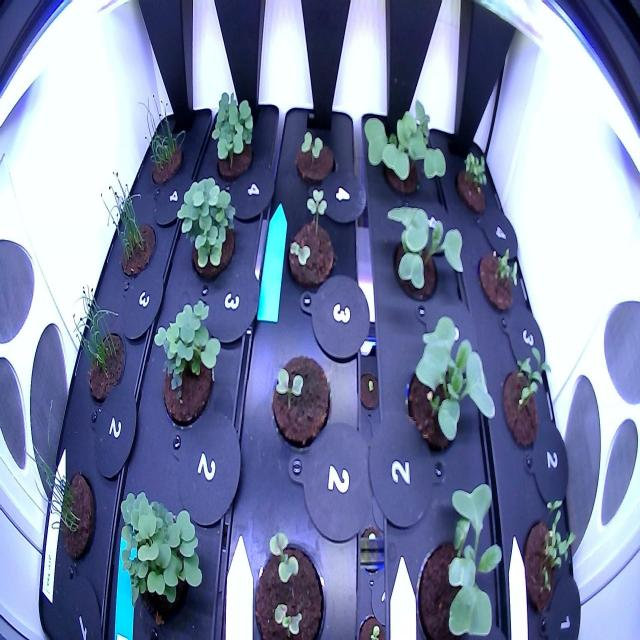germination: (114, 486, 214, 630), (17, 424, 99, 579), (146, 289, 225, 437), (247, 525, 330, 640), (63, 278, 130, 417), (517, 496, 582, 630), (261, 344, 338, 456), (95, 165, 162, 292), (494, 339, 557, 471), (281, 178, 344, 298), (173, 173, 240, 284), (136, 87, 190, 194), (206, 87, 261, 185), (476, 236, 523, 319), (288, 124, 341, 188), (454, 145, 496, 222)
